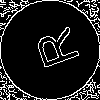R: (25, 25, 81, 75)
